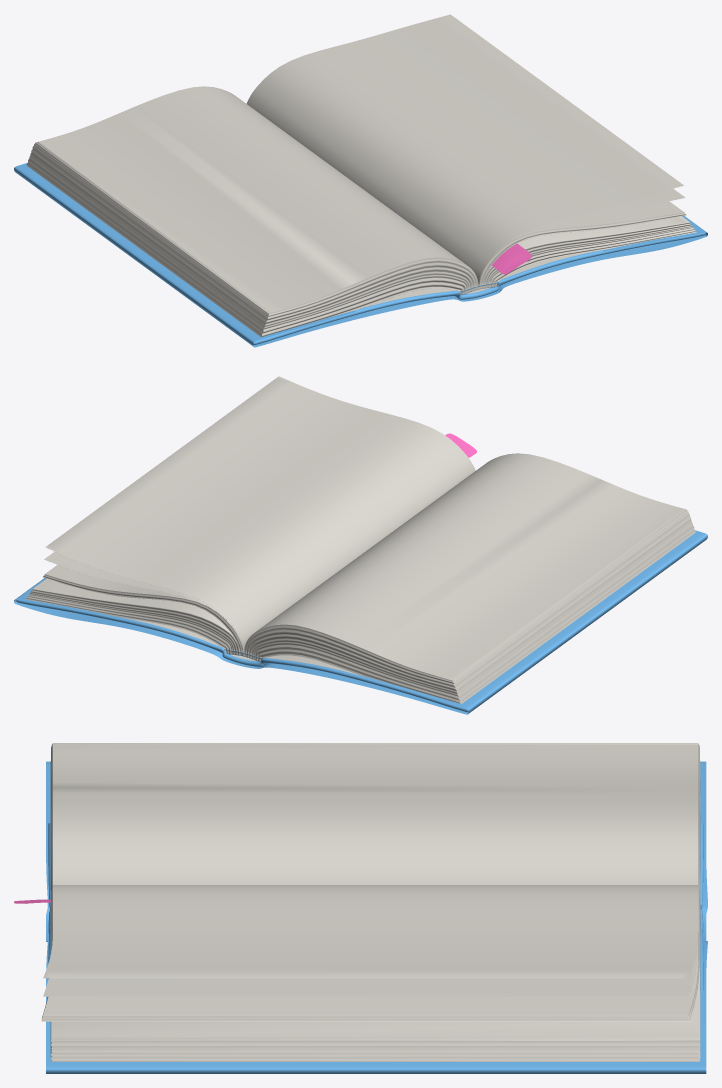
The model's file is book.gltf.
3 renders of one model, top to bottom at view 1: azimuth 30°, elevation 25°; view 2: azimuth 150°, elevation 25°; view 3: azimuth 270°, elevation 25°, orthographic. The views are drawn at different scales.
Parts seen in each view (by area): view 1: book; view 2: book; view 3: book.
Part boxes in pixels (x1=…): book: x1=14, y1=14, x2=707, y2=347; book: x1=14, y1=376, x2=707, y2=714; book: x1=14, y1=743, x2=707, y2=1073.
Bounding box in the file's own units: 0.34 × 0.0463 × 0.3254.
